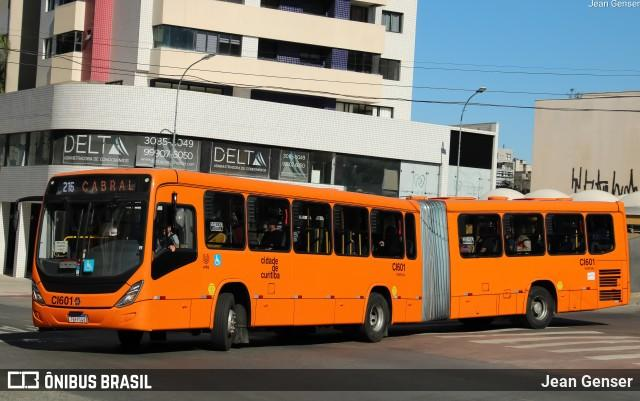CABRAL: (78, 174, 136, 196)
